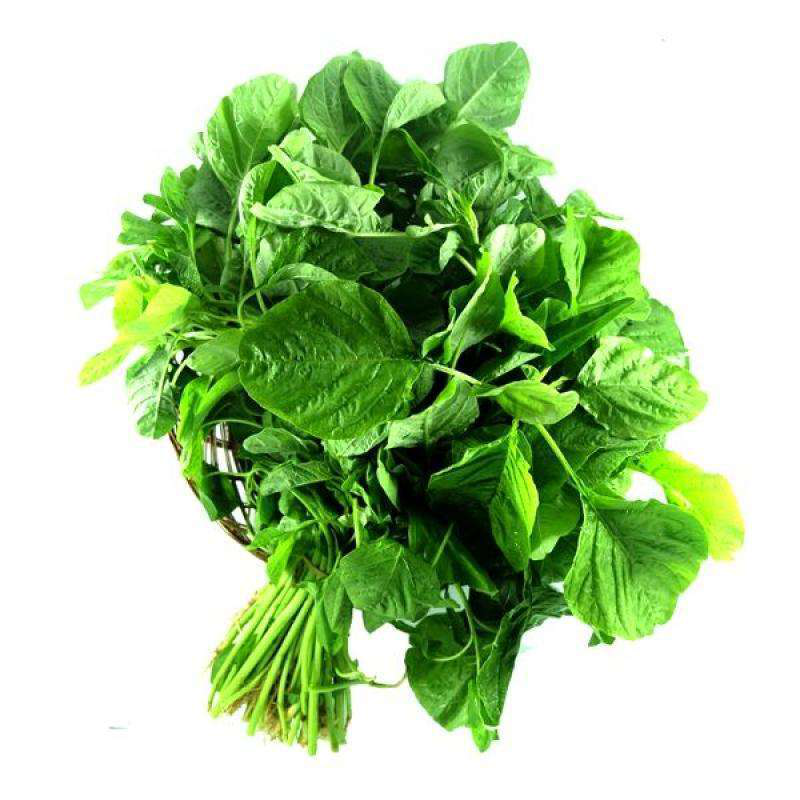Bayam: (77, 38, 745, 762)
